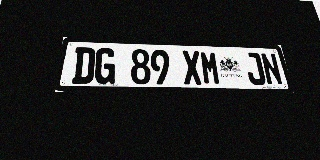8: (131, 49, 151, 84)
9: (151, 49, 171, 84)
D: (71, 47, 96, 84)
G: (94, 48, 116, 84)
J: (243, 52, 267, 85)
M: (199, 51, 221, 85)
N: (260, 53, 284, 85)
X: (182, 50, 203, 85)
